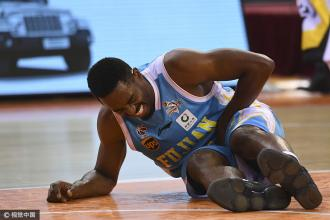fall: (60, 27, 330, 216)
